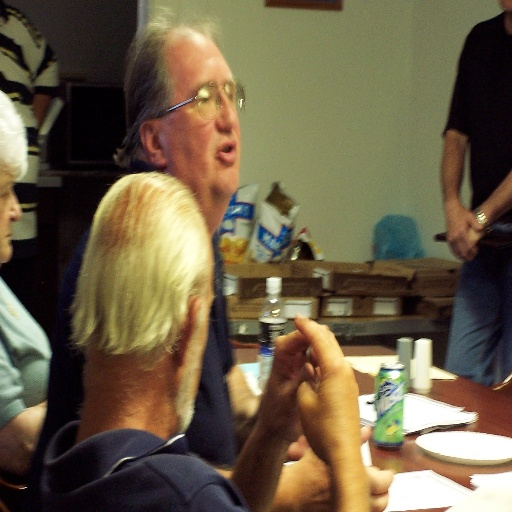hand: (286, 326, 376, 496), (258, 327, 320, 443), (300, 447, 392, 511), (287, 427, 371, 463), (444, 200, 482, 263), (465, 226, 481, 256)
